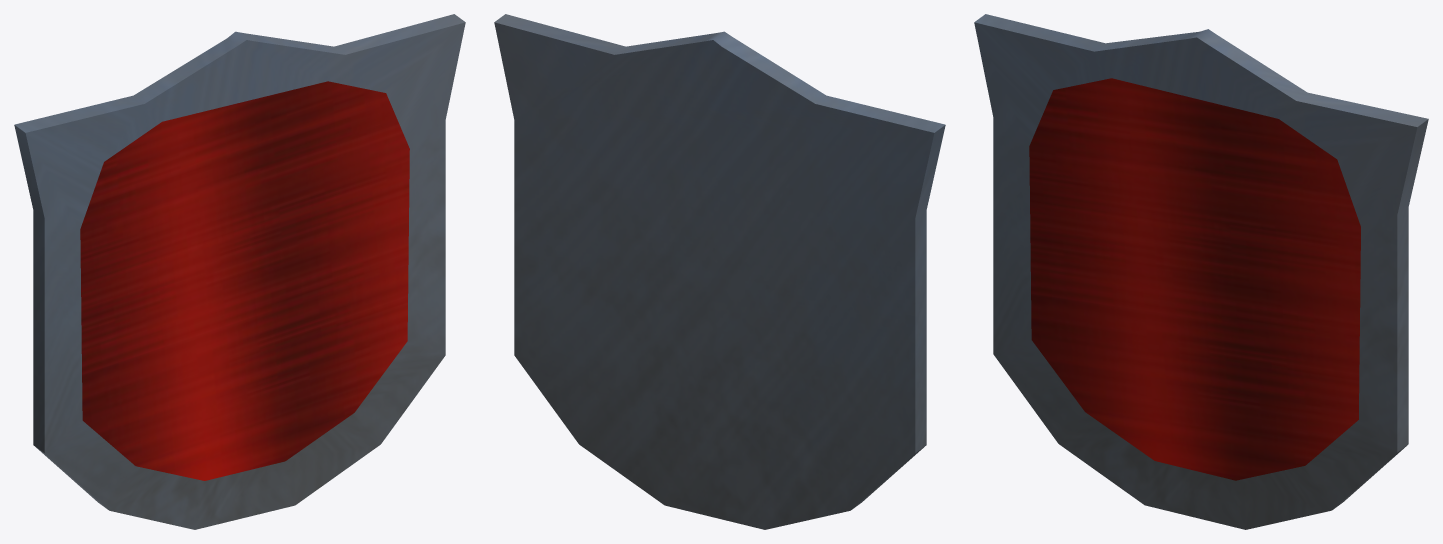
File: shield 1.fbx
3 views of the same model, side by side, from view 1: azimuth 30°, elevation 25°; view 2: azimuth 150°, elevation 25°; view 3: azimuth 330°, elevation 25° (orthographic).
Visible parts, largest first — view 1: shield1; view 2: shield1; view 3: shield1.
Part boxes in pixels (x1,y1,x2,y2): shield1: [14, 14, 465, 529]; shield1: [494, 14, 945, 529]; shield1: [974, 14, 1428, 529].
Bounding box in the file's own units: 399 × 413 × 17.78.
